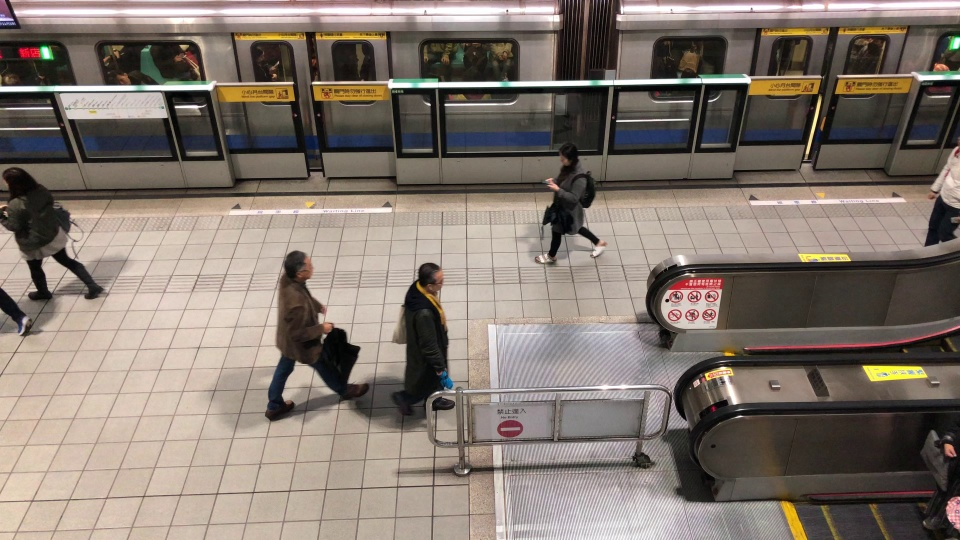person_head: (405, 255, 448, 305), (277, 247, 315, 294), (4, 166, 37, 200), (560, 142, 583, 172)
person_vbox: (263, 247, 363, 427), (383, 257, 468, 433), (1, 164, 106, 301), (524, 145, 605, 280), (917, 423, 957, 540), (929, 136, 960, 250)
